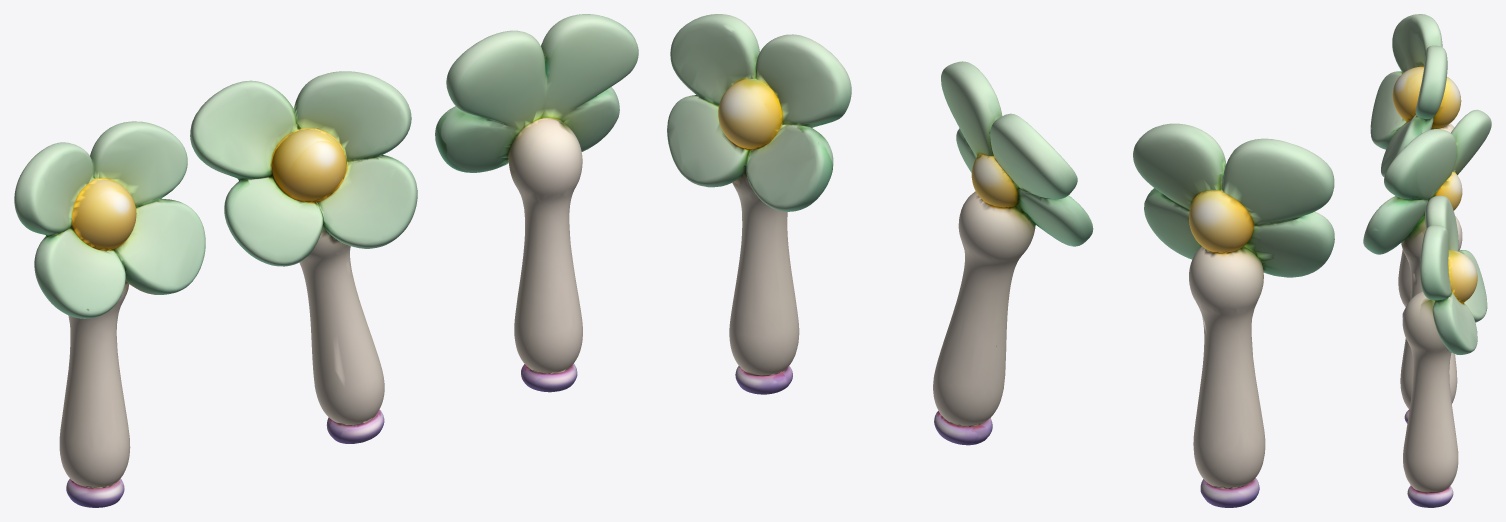
File: staff.glb
The picture shows the model from 3 angles, left to right: view 1: azimuth 30°, elevation 25°; view 2: azimuth 150°, elevation 25°; view 3: azimuth 270°, elevation 25°; orthographic projection. The views are drawn at different scales.
Visible parts, largest first — view 1: node_0; view 2: node_0; view 3: node_0.
Boxes of the visible parts, bbox=[...] form: node_0: bbox=[14, 14, 638, 507]; node_0: bbox=[667, 14, 1334, 507]; node_0: bbox=[1363, 14, 1491, 507].
Size of the model in its own units: 1.1 by 0.6019 by 0.2397.
1 material, 1 textured.
